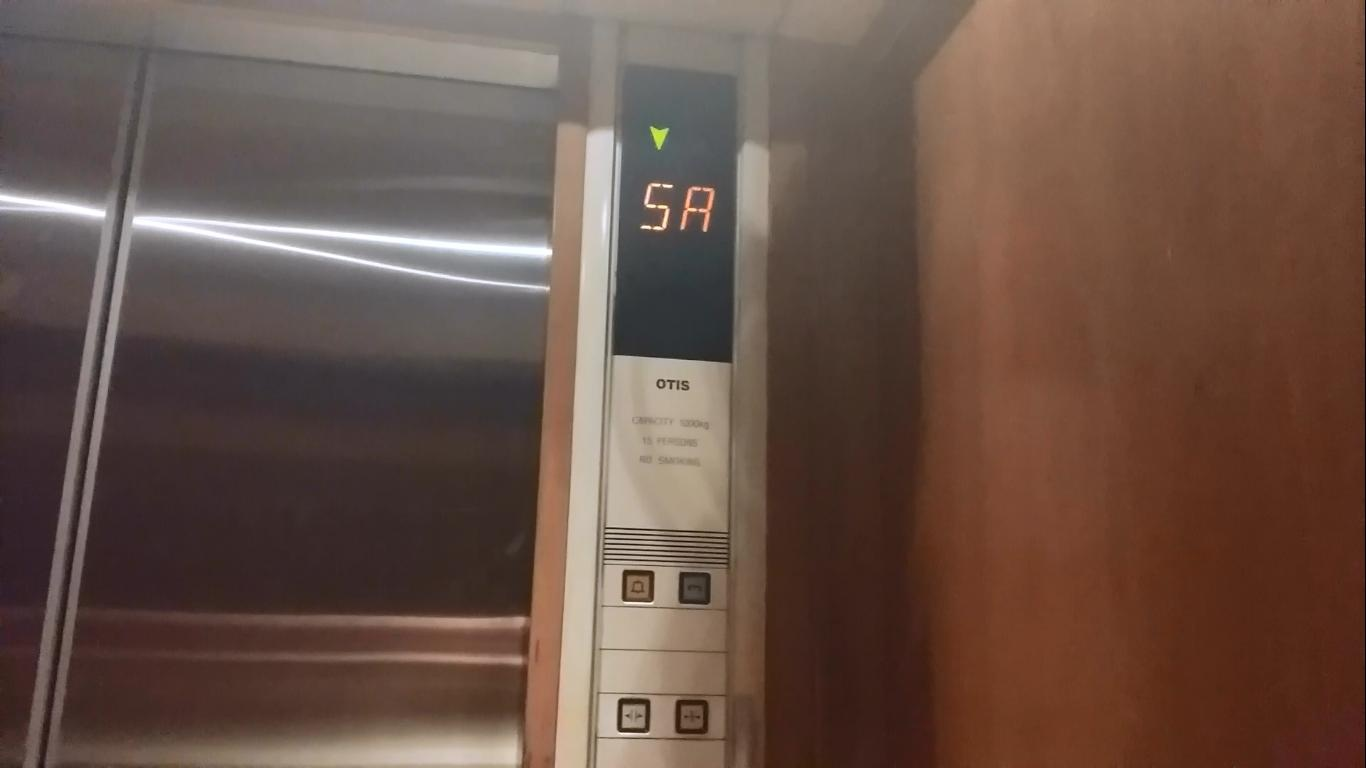alarm: (619, 567, 655, 603)
call: (677, 569, 712, 605)
close: (675, 700, 708, 733)
led: (606, 56, 743, 365)
open: (618, 697, 650, 734)
